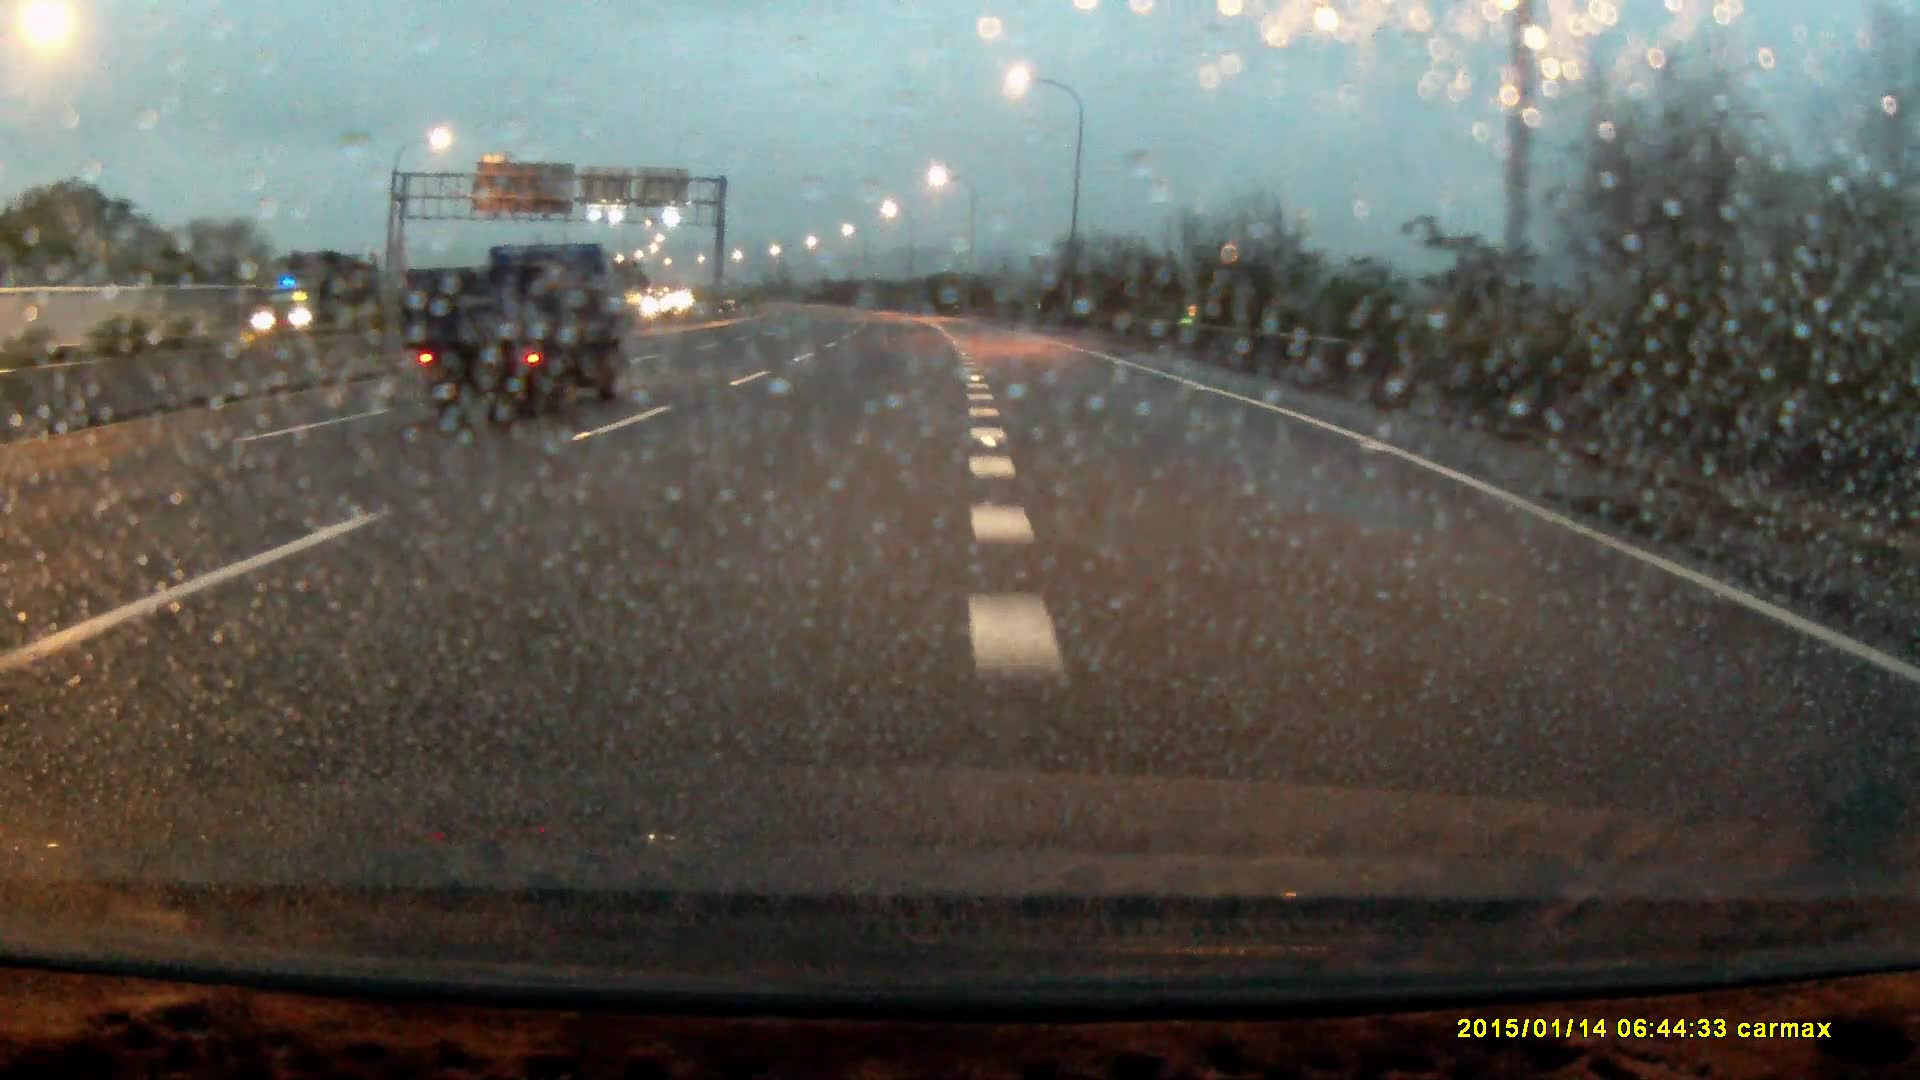vehicle: (400, 243, 622, 419), (249, 268, 377, 335)
